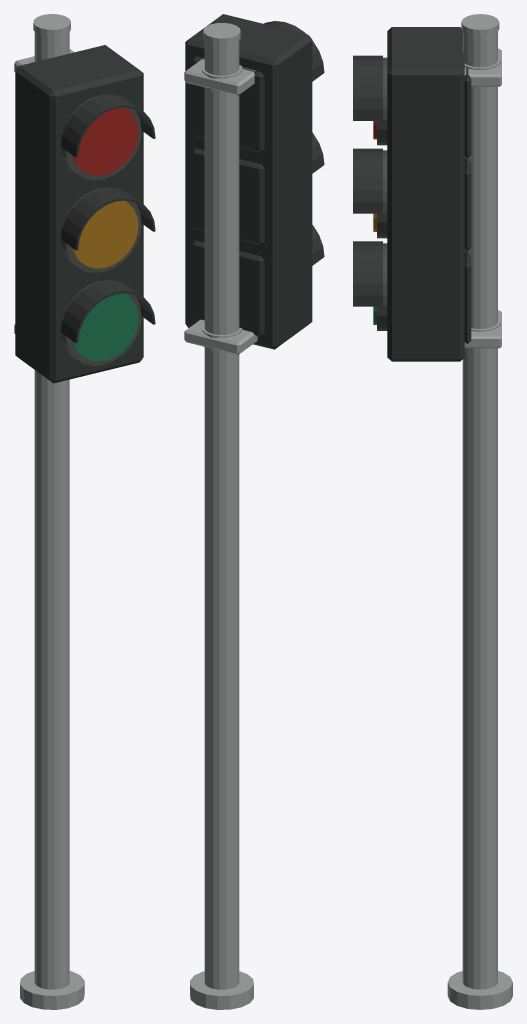
File: traffic_light_v1.glb
3 views of the same model, side by side, from view 1: azimuth 30°, elevation 25°; view 2: azimuth 150°, elevation 25°; view 3: azimuth 270°, elevation 25° (orthographic).
Visible parts, largest first — view 1: Signal_Body, Lens_Amber, Lens_Red, Lens_Green; view 2: Signal_Body; view 3: Signal_Body.
Part boxes in pixels (x1,y1,x2,y2): Signal_Body: (14,14,155,1009); Lens_Amber: (72,200,138,268); Lens_Red: (72,107,138,175); Lens_Green: (72,293,138,361); Signal_Body: (184,14,324,1009); Signal_Body: (353,14,512,1009).
Bounding box in the file's own units: 0.35 × 3.46 × 0.515.
